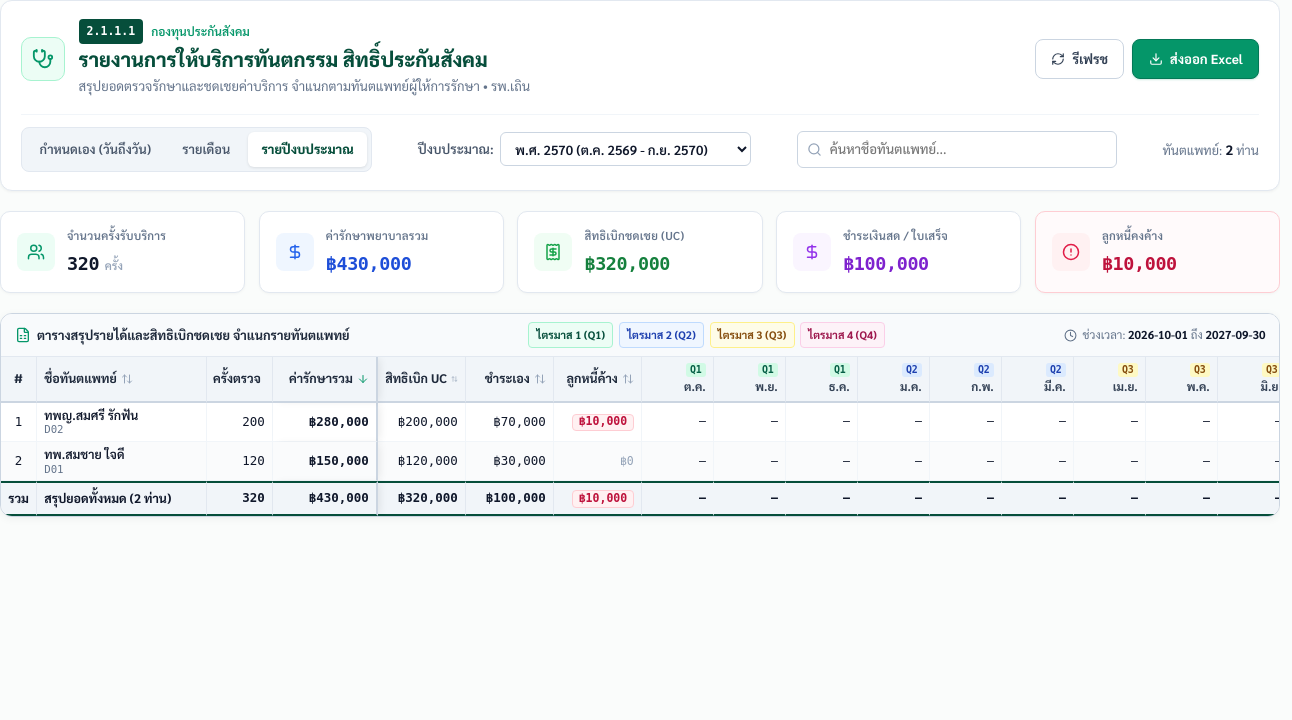
it: SssDentalClient Component › filters doctors by search input
Expected: the text "ทพ.สมชาย ใจดี" is shown, [44,447,124,462]
Expected: the text "ทพญ.สมศรี รักฟัน" is shown, [44,408,138,423]
Type "สมศรี" into the field with placeholder "ค้นหาชื่อทันตแพทย์..." at (957, 149), box [797,131,1117,168]
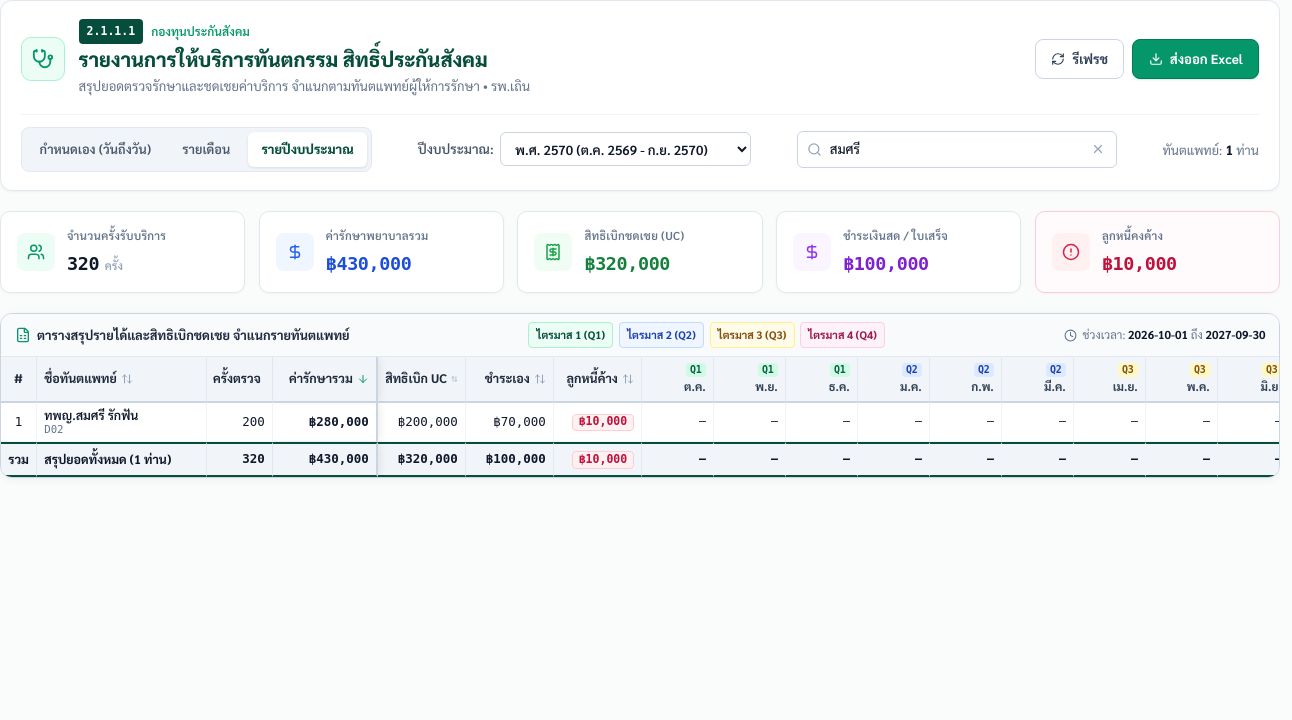
Expected: the text "ทพญ.สมศรี รักฟัน" is shown, [44,408,138,423]
Now the text "ทพ.สมชาย ใจดี" is gone
